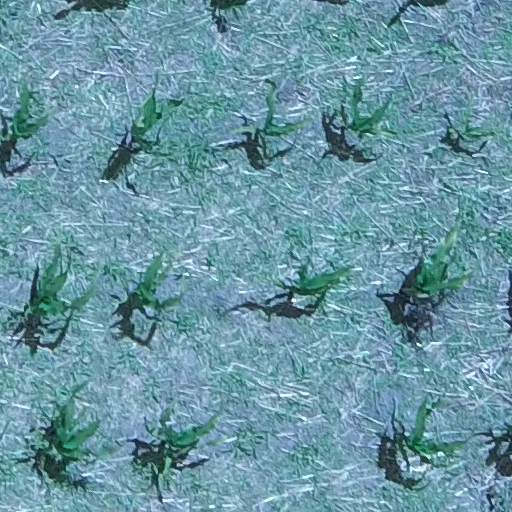planta: (230, 79, 311, 160), (23, 248, 100, 324), (396, 400, 465, 470), (413, 228, 472, 298), (128, 90, 184, 162), (145, 403, 216, 456), (49, 397, 100, 468), (277, 264, 354, 298), (134, 253, 179, 311), (341, 84, 388, 137), (453, 104, 494, 141)
